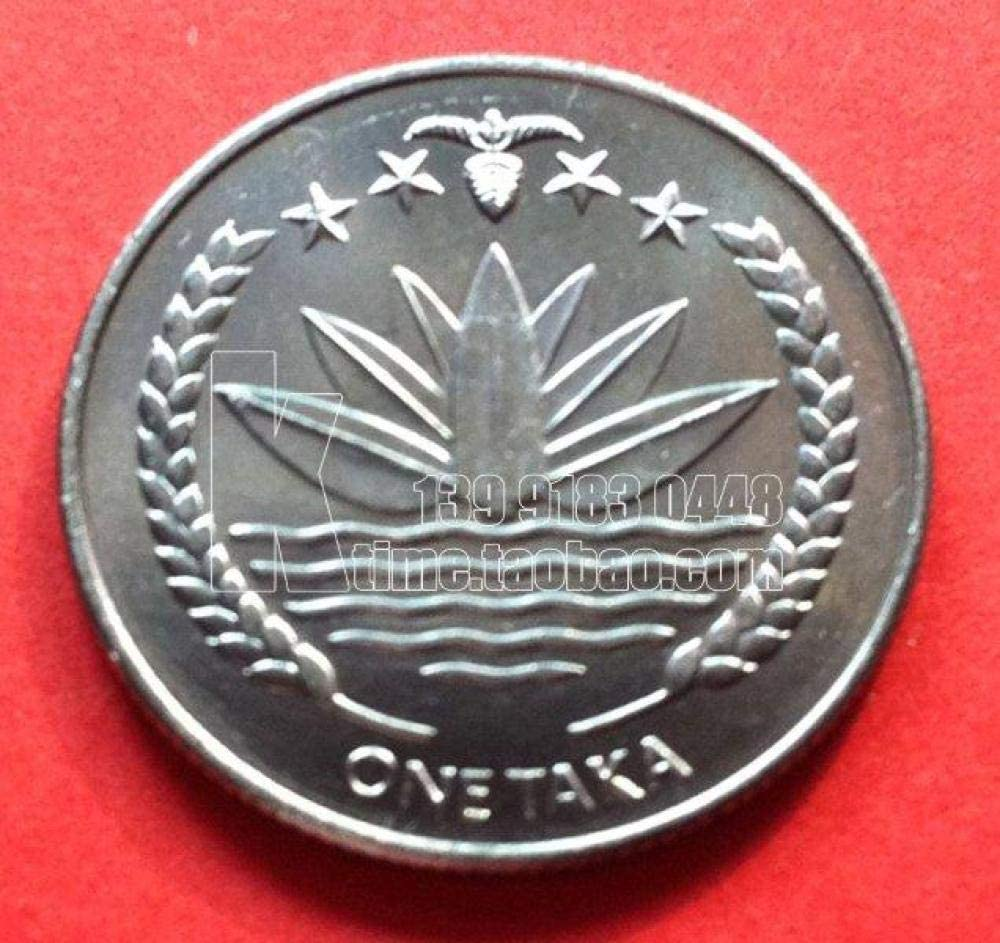2 taka coin: (64, 52, 930, 875)
